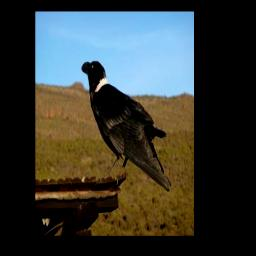Crow: (80, 56, 171, 192)
